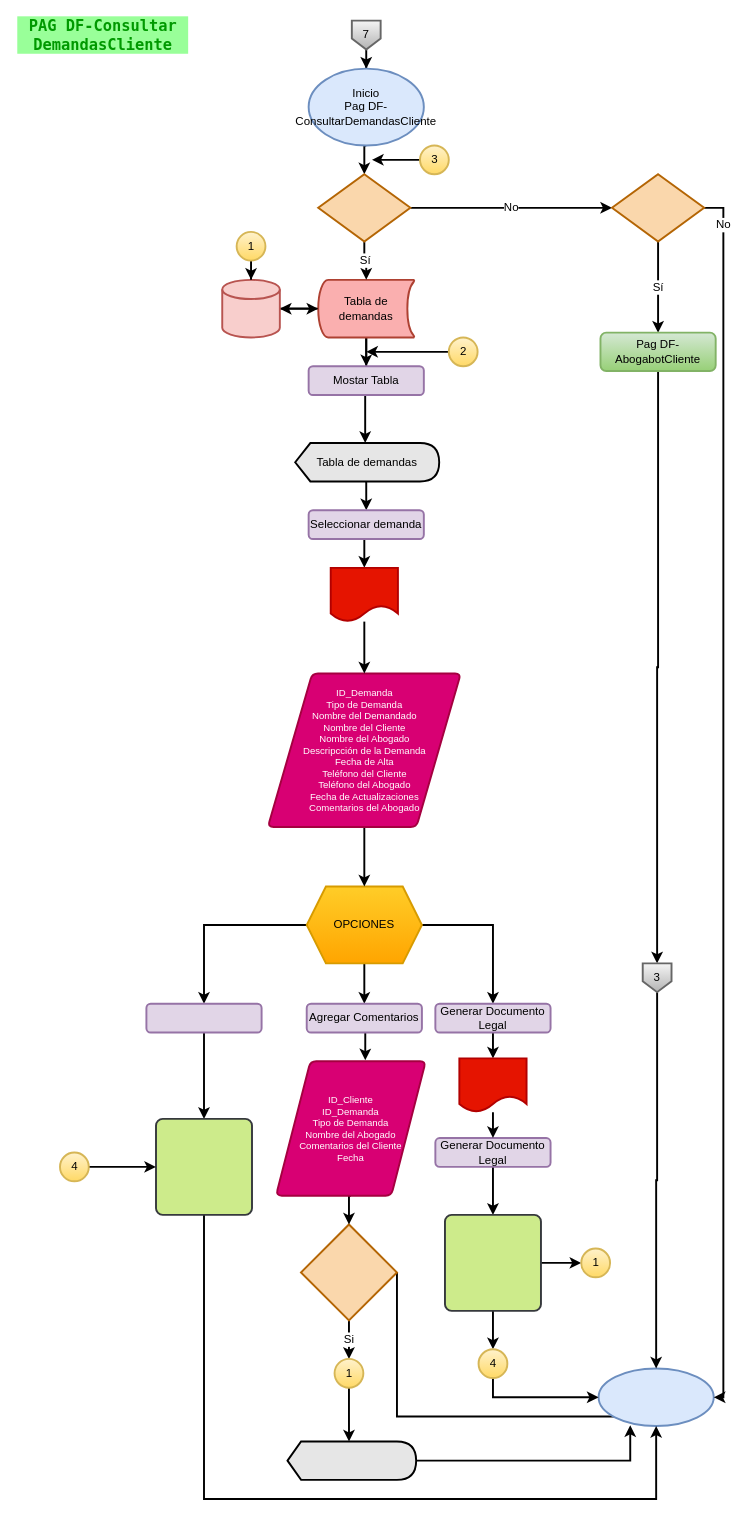
Some shapes in this 748 by 1524 pixel diagram are drawn without their labels. Each missing label, with the centre of its shape:
"Comentarios guardados": [351,1460]
Base de datos: [250,308]
Contactar Abogado: [203,1017]
Detalles de la demanda: [363,594]
Documento legal: [492,1085]
Fin: [655,1397]
Se actualiza base de datos: [492,1262]
Se envía notificación al Abogado: [203,1166]
¿Consultar Demandas?: [364,207]
¿Guardar?: [348,1272]
¿Regresar al inicio?: [658,207]
